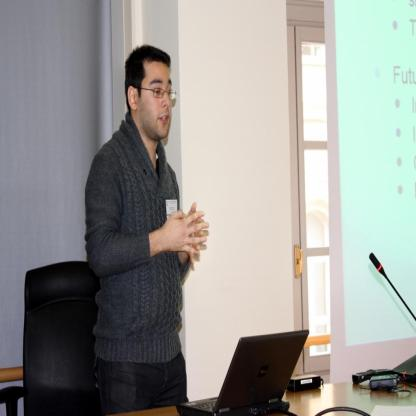board: (176, 325, 310, 414)
